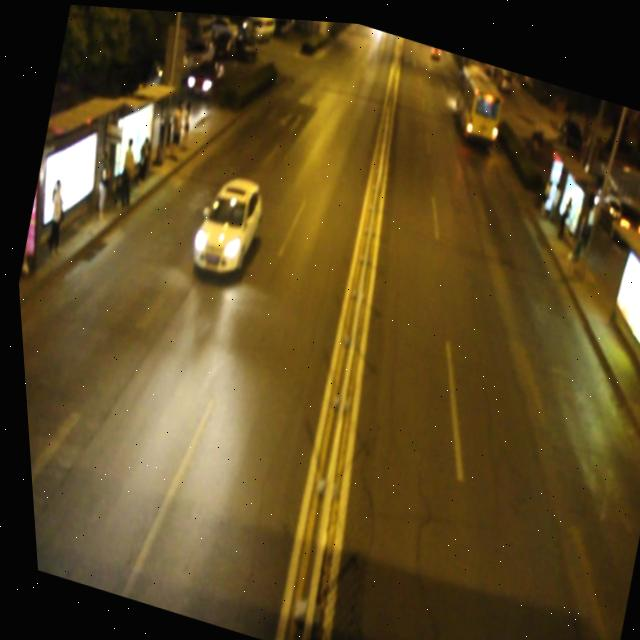car: (176, 161, 270, 286)
